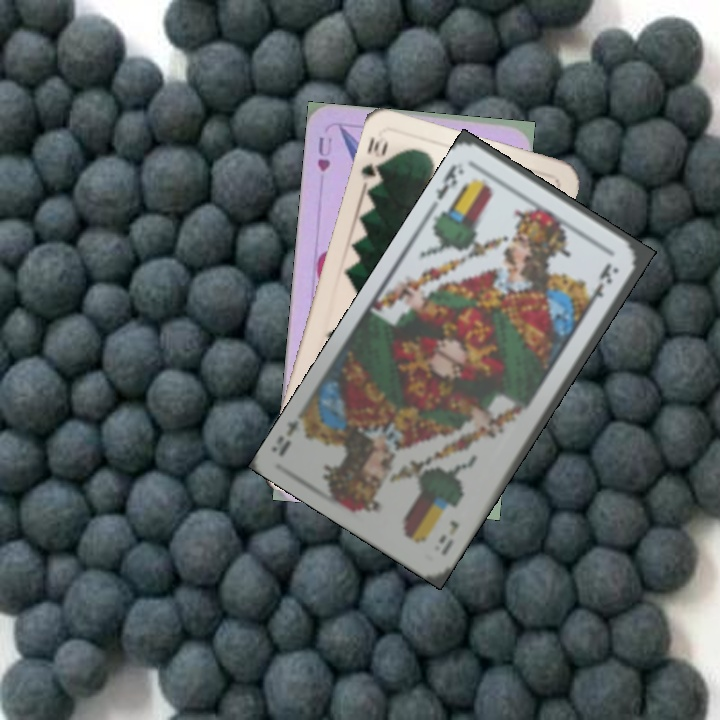EK: (432, 159, 460, 203), (434, 516, 462, 559)
G10: (357, 131, 391, 188)
HU: (313, 132, 335, 174)
